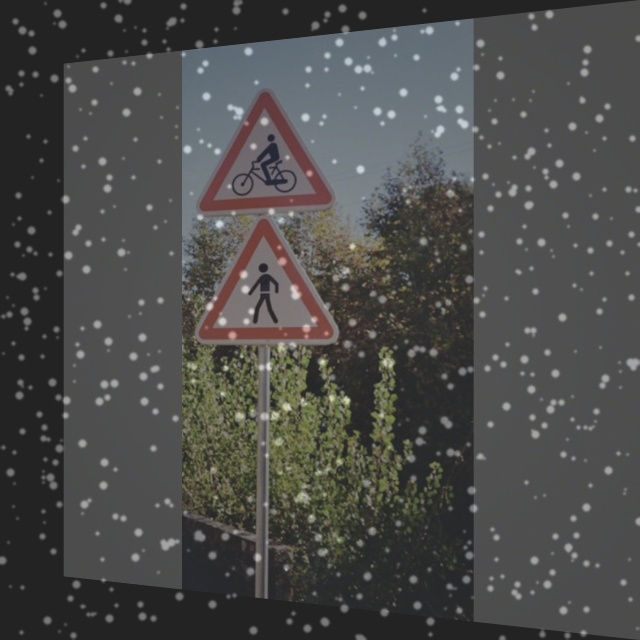Cycle_Crossing: (201, 80, 327, 216)
